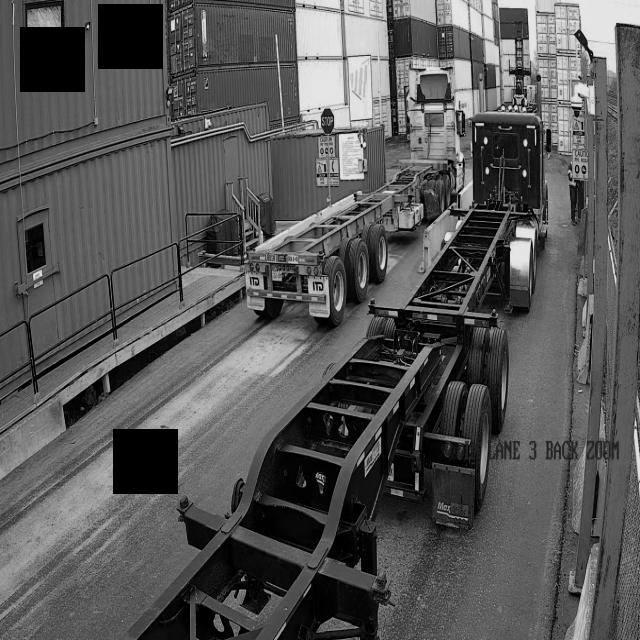driver: (568, 163, 577, 224)
truck_without_container: (129, 110, 550, 640), (245, 71, 464, 325)
